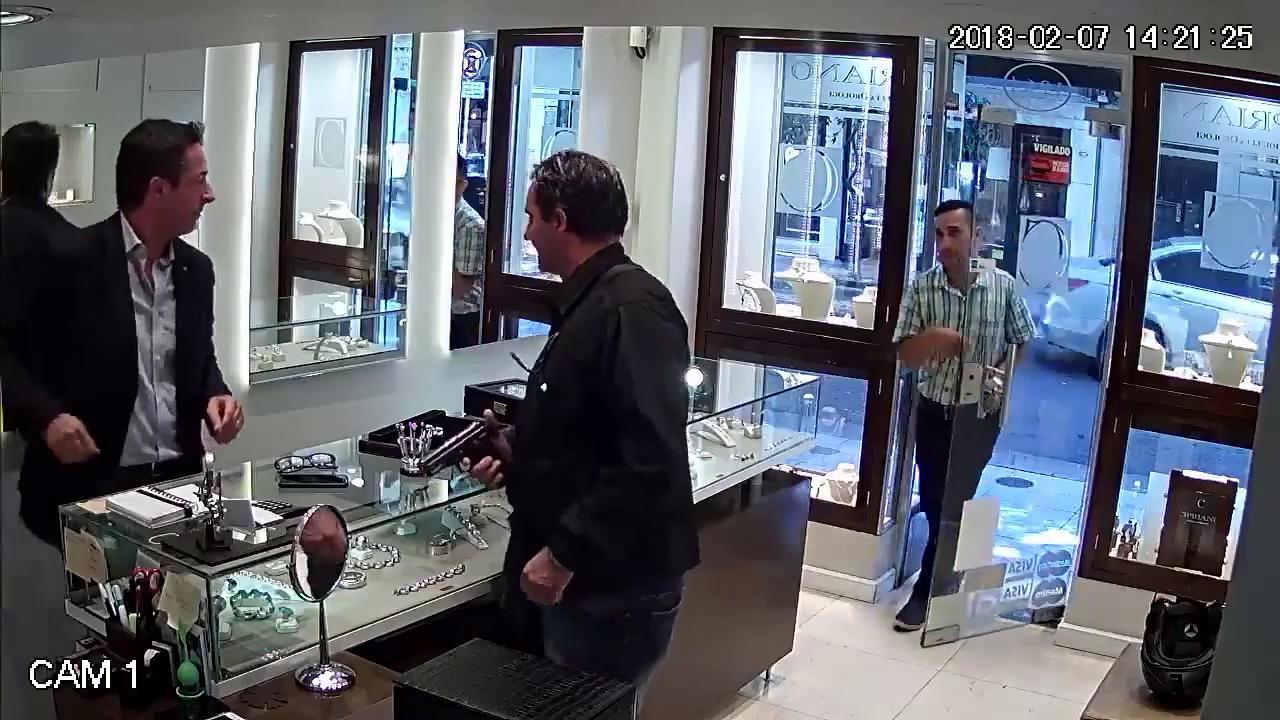Guns: (408, 387, 535, 499)
